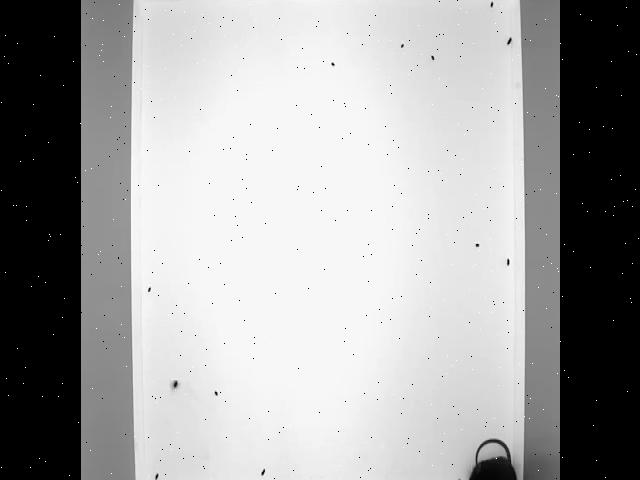Tikus: (463, 435, 518, 480)
